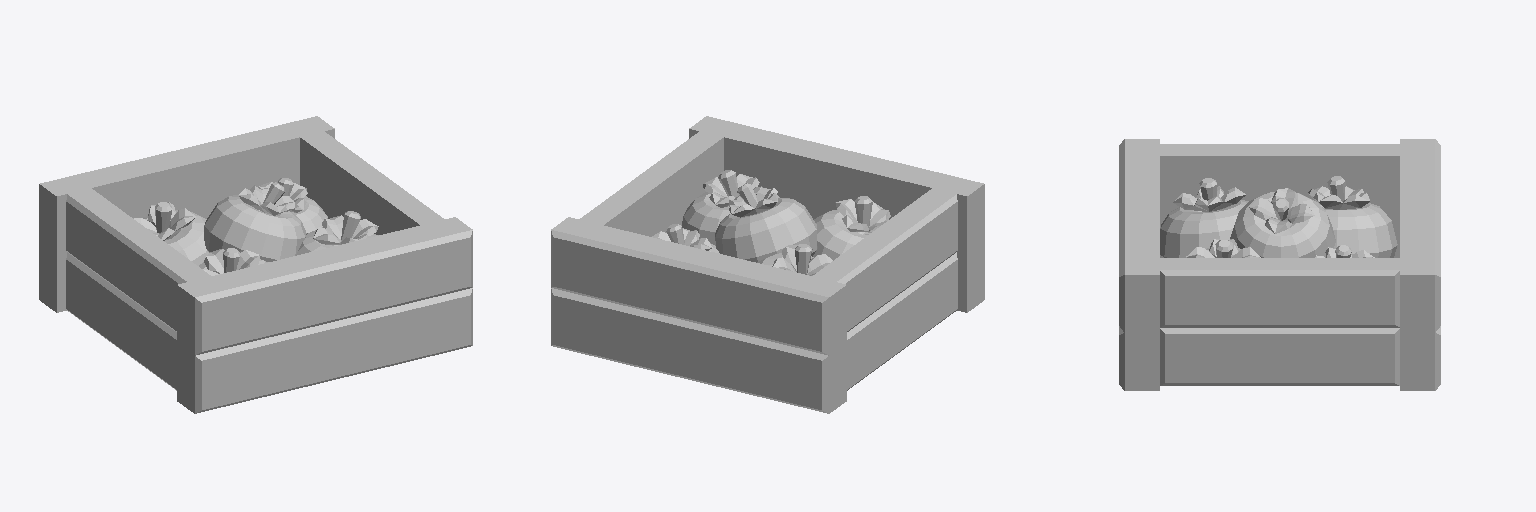
Rendered from crate_tomatoes.obj.
3 views of the same model, side by side, from view 1: azimuth 30°, elevation 25°; view 2: azimuth 150°, elevation 25°; view 3: azimuth 270°, elevation 25° (orthographic).
Parts seen in each view (by area): view 1: crate_tomatoes_Cube.230; view 2: crate_tomatoes_Cube.230; view 3: crate_tomatoes_Cube.230.
Boxes of the visible parts, x1,y1,x2,y2 form: crate_tomatoes_Cube.230: [39, 116, 472, 413]; crate_tomatoes_Cube.230: [551, 116, 984, 413]; crate_tomatoes_Cube.230: [1119, 139, 1440, 390].
Size of the model in its own units: 2 by 0.9233 by 2.